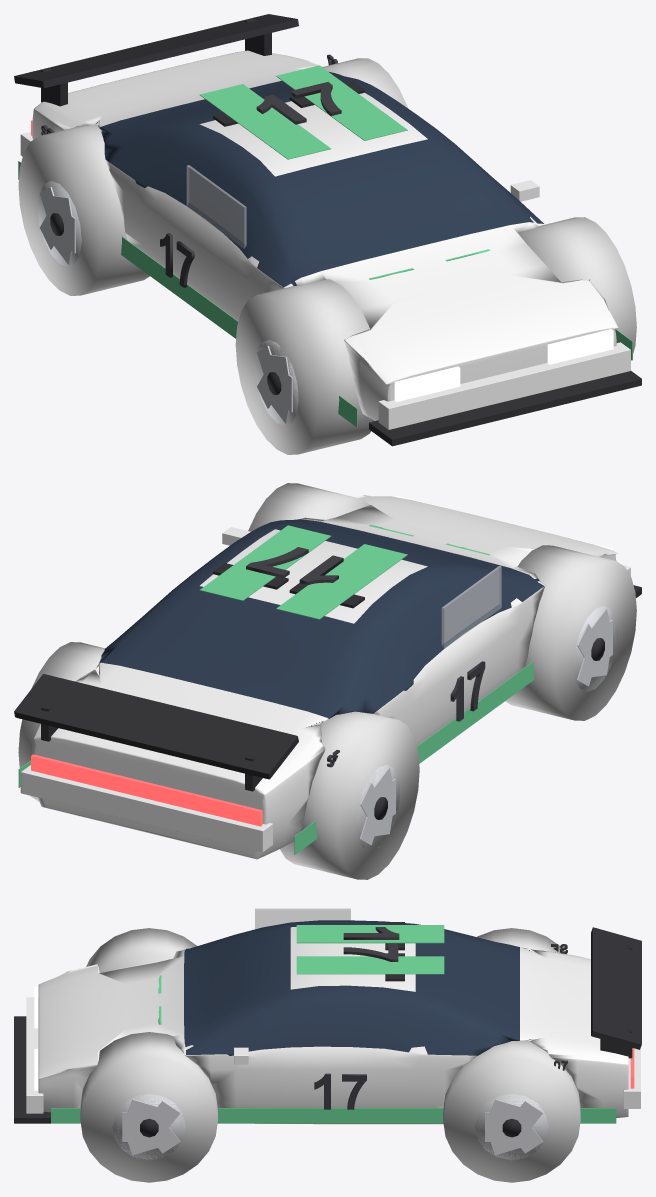
The model's file is car_9.glb.
3 renders of one model, top to bottom at view 1: azimuth 30°, elevation 25°; view 2: azimuth 150°, elevation 25°; view 3: azimuth 270°, elevation 25°, orthographic. The views are drawn at different scales.
Visible parts, largest first — view 1: body, cutter, cutter.002, bumperF, cutter.001, spoiler, splitter, roofL, roofR, net, sideS, cutter.003 (+6 smaller); view 2: body, cutter.002, cutter, spoiler, bumperR, tail, roofL, roofR, cutter.001, net, sideS, cutter.003 (+4 smaller); view 3: body, cutter.001, cutter.003, spoiler, sideS.001, cutter, roofR, roofL, splitter, rim.001, rim.003, net (+16 smaller).
Part boxes in pixels (x1=…): body: x1=32, y1=50, x2=618, y2=420; cutter: x1=235, y1=279, x2=374, y2=454; cutter.002: x1=18, y1=124, x2=149, y2=295; bumperF: x1=378, y1=342, x2=630, y2=429; cutter.001: x1=518, y1=217, x2=636, y2=360; spoiler: x1=14, y1=14, x2=298, y2=88; splitter: x1=369, y1=371, x2=641, y2=446; roofL: x1=200, y1=84, x2=331, y2=159; roofR: x1=276, y1=65, x2=407, y2=140; net: x1=186, y1=165, x2=246, y2=248; sideS: x1=18, y1=161, x2=357, y2=427; cutter.003: x1=322, y1=58, x2=407, y2=107; body: x1=32, y1=495, x2=617, y2=859; cutter.002: x1=280, y1=711, x2=419, y2=879; cutter: x1=505, y1=545, x2=636, y2=720; spoiler: x1=14, y1=674, x2=298, y2=779; bumperR: x1=20, y1=765, x2=272, y2=851; tail: x1=31, y1=754, x2=262, y2=826; roofL: x1=276, y1=544, x2=407, y2=619; roofR: x1=199, y1=525, x2=331, y2=600; cutter.001: x1=248, y1=483, x2=369, y2=531; net: x1=441, y1=565, x2=501, y2=648; sideS: x1=294, y1=661, x2=534, y2=854; cutter.003: x1=18, y1=642, x2=104, y2=801; body: x1=38, y1=920, x2=628, y2=1124; cutter.001: x1=80, y1=1032, x2=217, y2=1182; cutter.003: x1=443, y1=1040, x2=580, y2=1182; spoiler: x1=591, y1=927, x2=641, y2=1049; sideS.001: x1=51, y1=1108, x2=616, y2=1123; cutter: x1=86, y1=928, x2=196, y2=972; roofR: x1=296, y1=956, x2=444, y2=974; roofL: x1=296, y1=925, x2=444, y2=943; splitter: x1=14, y1=1016, x2=50, y2=1123; rim.001: x1=112, y1=1093, x2=185, y2=1160; rim.003: x1=475, y1=1093, x2=548, y2=1160; net: x1=255, y1=908, x2=350, y2=929.
Size of the model in its own units: 2.56 by 1.57 by 5.11.
